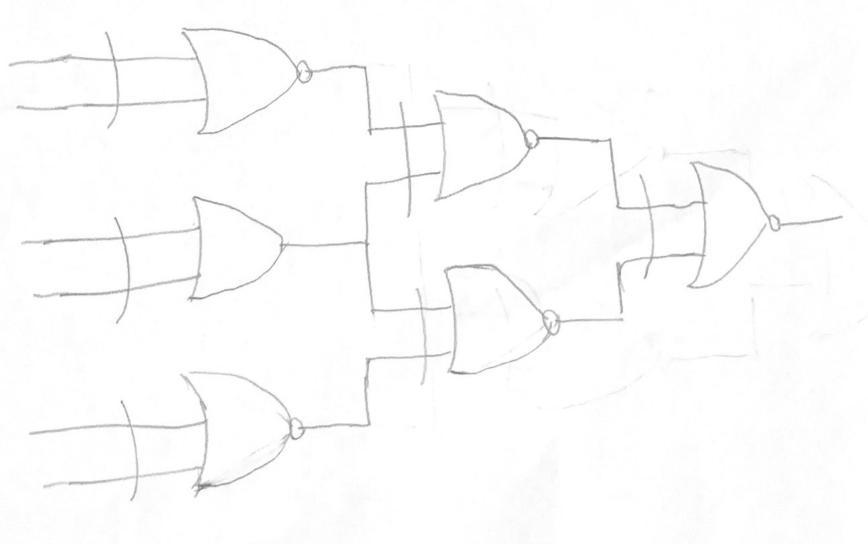XNOR: (98, 358, 332, 520), (91, 11, 327, 152), (399, 256, 584, 403), (629, 147, 797, 296), (387, 87, 555, 224)
XOR: (97, 187, 300, 331)
